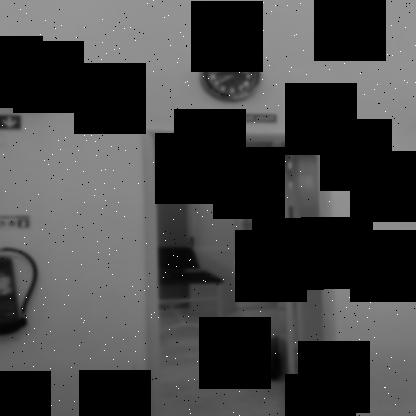Porte: (137, 126, 341, 416)
